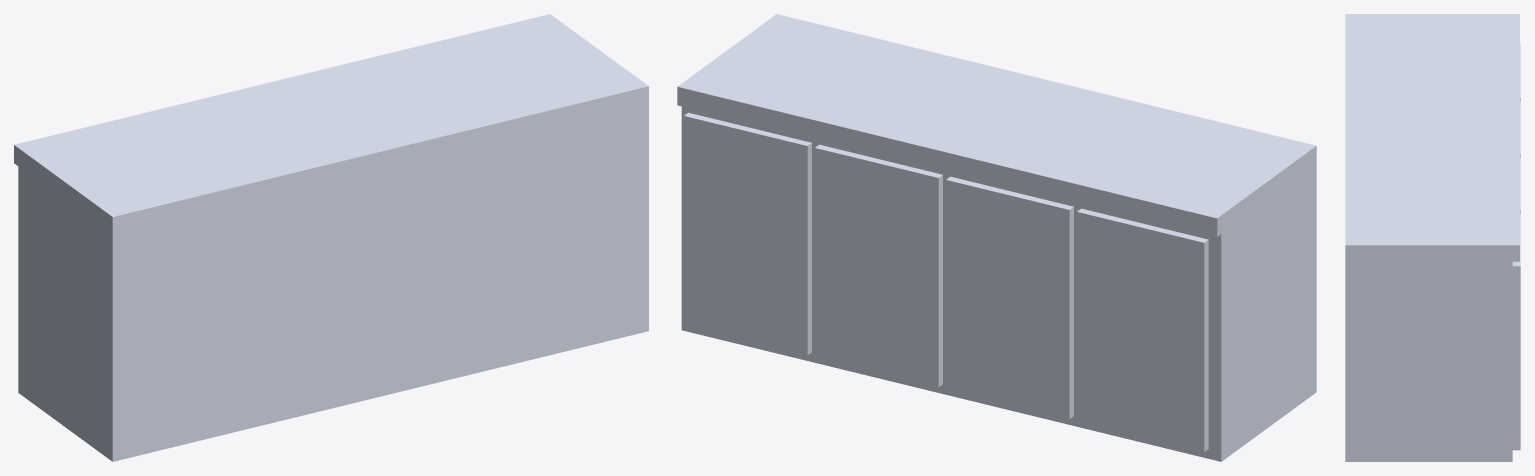
The model's file is Kitchen_Bench_01.glb.
3 renders of one model, left to right at view 1: azimuth 30°, elevation 25°; view 2: azimuth 150°, elevation 25°; view 3: azimuth 270°, elevation 25°, orthographic. The views are drawn at different scales.
Parts seen in each view (by area): view 1: KitchBench; view 2: KitchBench; view 3: KitchBench.
Boxes of the visible parts, x1=… form: KitchBench: x1=14, y1=14, x2=648, y2=461; KitchBench: x1=677, y1=14, x2=1316, y2=461; KitchBench: x1=1345, y1=14, x2=1520, y2=461.
Bounding box in the file's own units: 2.29 × 1 × 0.7326.
1 material, 1 textured.
